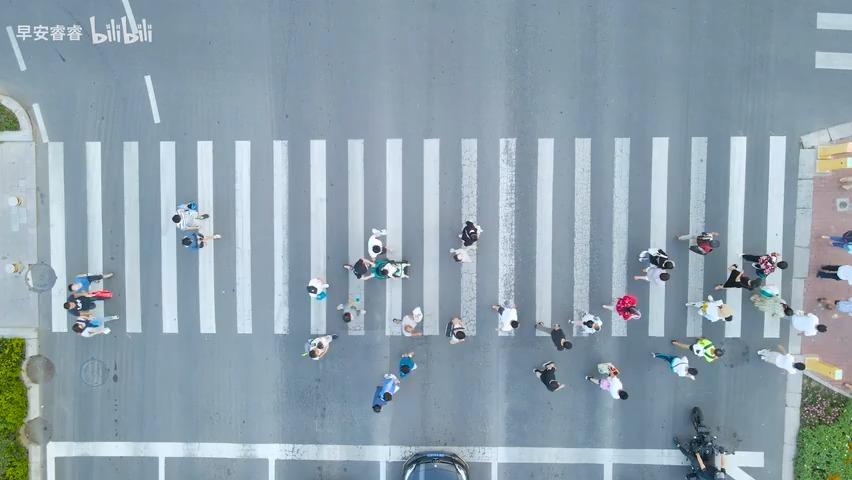Civilian: (584, 362, 628, 400), (633, 247, 675, 286), (343, 256, 410, 280), (756, 344, 805, 374), (740, 251, 788, 281), (671, 336, 724, 363), (749, 286, 793, 317), (650, 351, 697, 380), (713, 263, 761, 291), (684, 294, 732, 322), (371, 372, 400, 412), (534, 321, 572, 351), (171, 201, 209, 231), (674, 230, 719, 255), (532, 360, 565, 392), (70, 317, 118, 339), (490, 299, 519, 335), (601, 294, 641, 320), (67, 271, 113, 293), (791, 309, 827, 337), (301, 333, 338, 360), (392, 306, 424, 337), (568, 309, 602, 332), (336, 296, 366, 322), (633, 265, 670, 286), (180, 231, 221, 249), (816, 295, 851, 316), (342, 257, 375, 279), (821, 229, 851, 253), (816, 263, 851, 283), (63, 296, 96, 316), (367, 228, 387, 259), (444, 316, 466, 344), (457, 220, 479, 247), (306, 277, 329, 300), (398, 351, 417, 377), (449, 246, 476, 262)
